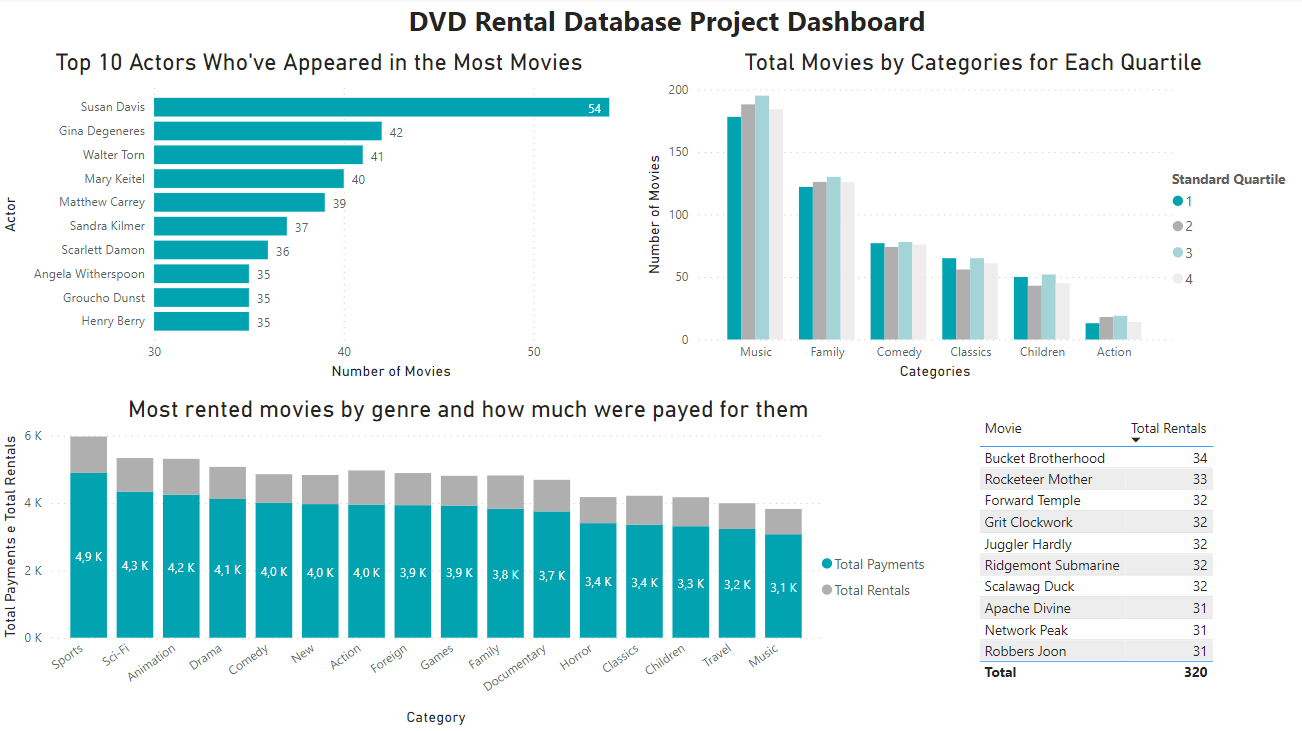

The page's visual inventory and layout, read from the dashboard file:
{"tool":"powerbi","page":{"name":"Página 2","canvas":[1280,720],"ordinal":1},"visuals":[{"type":"barChart","title":"Top 10 Actors Who''ve Appeared in the Most Movies","fields":{"Category":["public query_1.full_name"],"Y":["public query_1.number"]},"box":[0,50.1,629.5,328.8],"z":0},{"type":"textbox","box":[396.1,0,525.6,50.1],"z":1000},{"type":"clusteredColumnChart","title":"Total Movies by Categories for Each Quartile","fields":{"Category":["public query_12.category_name"],"Y":["public query_12.count"],"Series":["public query_12.standard_quartile"]},"box":[629.5,50.1,650.3,328.8],"z":2000},{"type":"columnChart","title":" Most rented movies by genre and how much were payed for them","fields":{"Category":["public query_7.name"],"Y":["public query_7.total_payment","public query_7.total_rental"]},"box":[0,388.7,921.7,328.8],"z":3000},{"type":"tableEx","fields":{"Values":["public query_9.title","public query_9.count"]},"box":[954.7,405.8,261.6,273.8],"z":4000}]}

Visuals, with their boxes in screenshot pixels (x1, y1, x2, y2), scaled from the page's 1280x720 canvas onto the 1302x731 screenshot:
"Top 10 Actors Who''ve Appeared in the Most Movies" barChart: <region>0, 51, 640, 385</region>
textbox: <region>403, 0, 938, 51</region>
"Total Movies by Categories for Each Quartile" clusteredColumnChart: <region>640, 51, 1301, 385</region>
" Most rented movies by genre and how much were payed for them" columnChart: <region>0, 395, 938, 728</region>
tableEx - public query_9.title x public query_9.count: <region>971, 412, 1237, 690</region>
